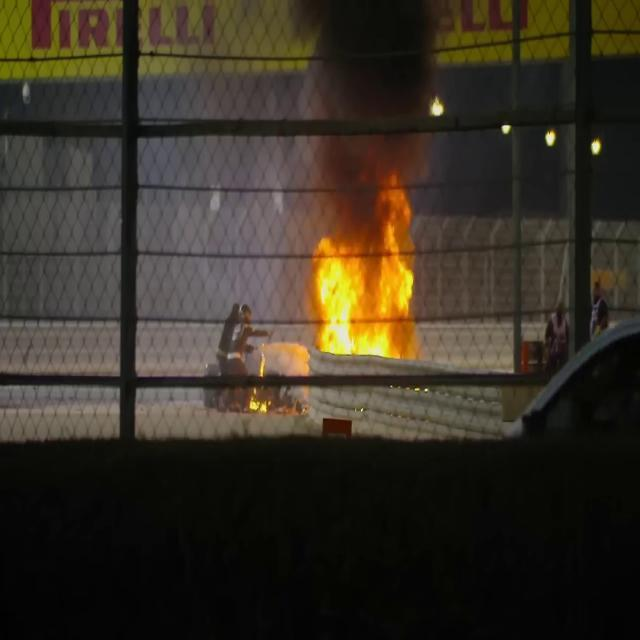Fire: (300, 172, 430, 359), (245, 374, 273, 416)
Smoke: (292, 0, 456, 180)
